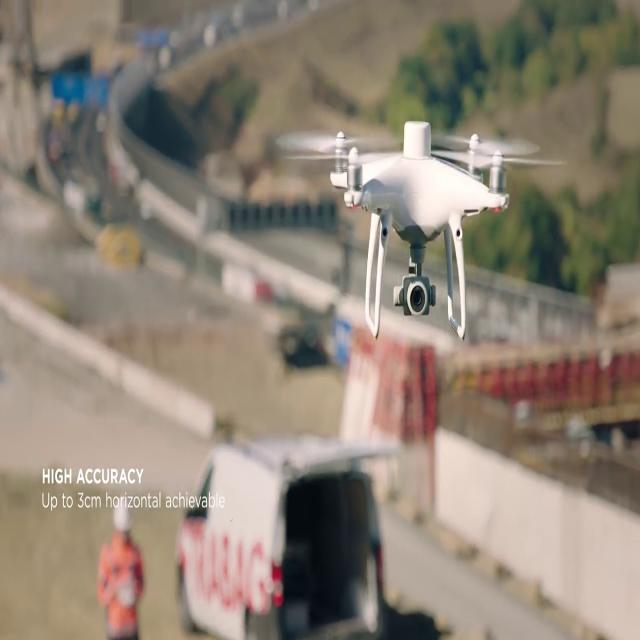drone: (274, 116, 570, 345)
